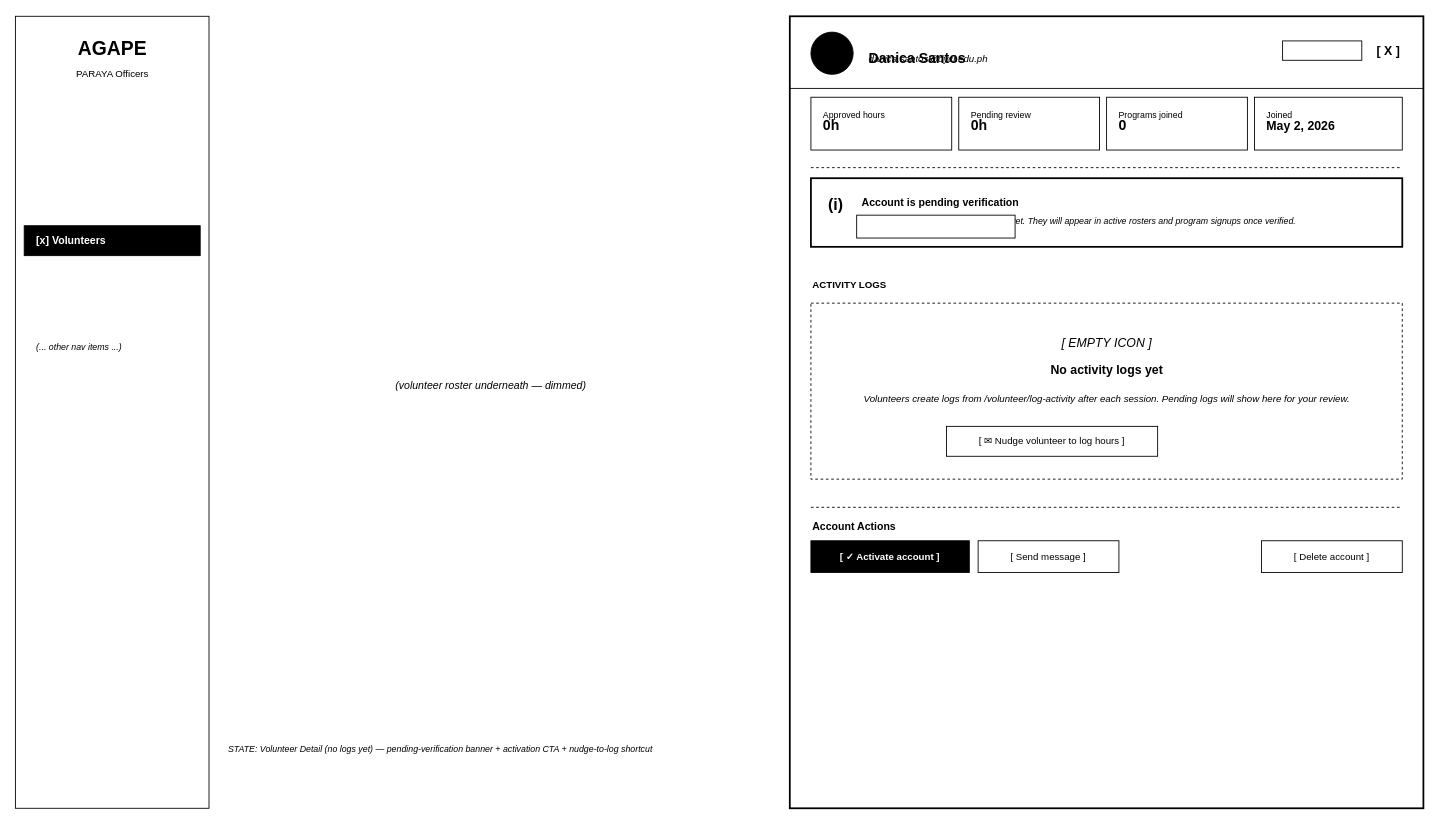
This 1440x824 diagram has some shape labels left out. Each missing label, with the centre of its shape:
"( pending )" belongs at pixel 1322 50.
"[ Resend verification email ]" belongs at pixel 935 226.
"DS" belongs at pixel 831 52.
